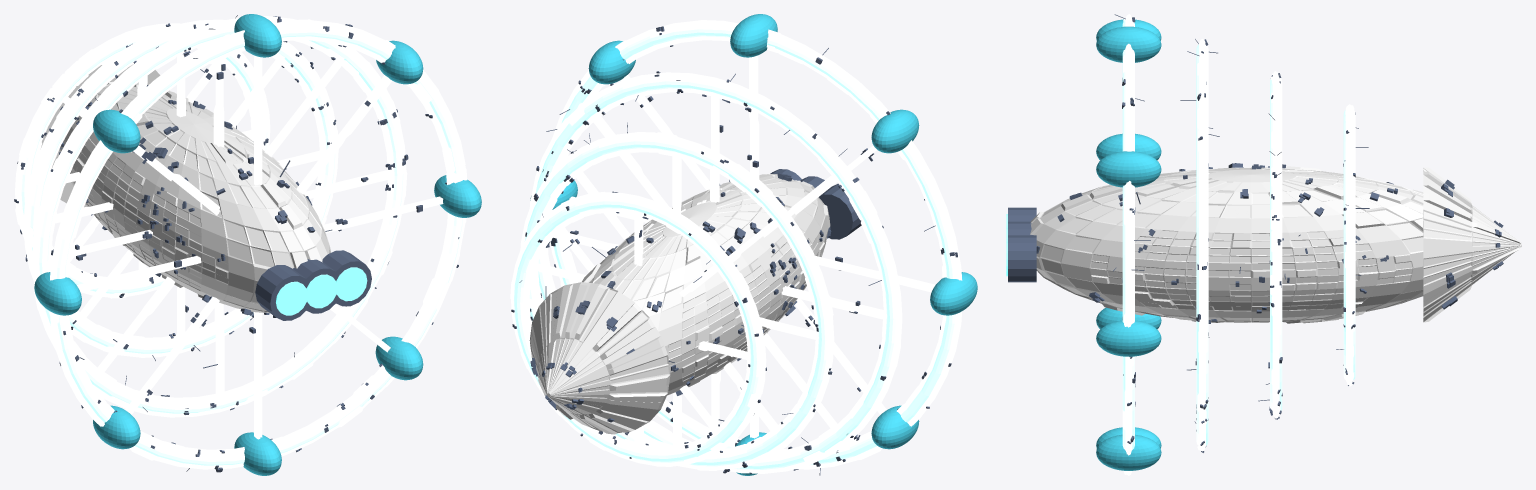
Rendered from vossari_titan.glb.
The picture shows the model from 3 angles, left to right: view 1: azimuth 30°, elevation 25°; view 2: azimuth 150°, elevation 25°; view 3: azimuth 270°, elevation 25°; orthographic projection. The views are drawn at different scales.
Visible parts, largest first — view 1: vossari_titan; view 2: vossari_titan; view 3: vossari_titan.
Boxes of the visible parts, <box> form: vossari_titan: <box>14,14,481,475</box>; vossari_titan: <box>510,14,977,475</box>; vossari_titan: <box>1006,14,1521,475</box>.
Size of the model in its own units: 9.29 by 9.29 by 10.
